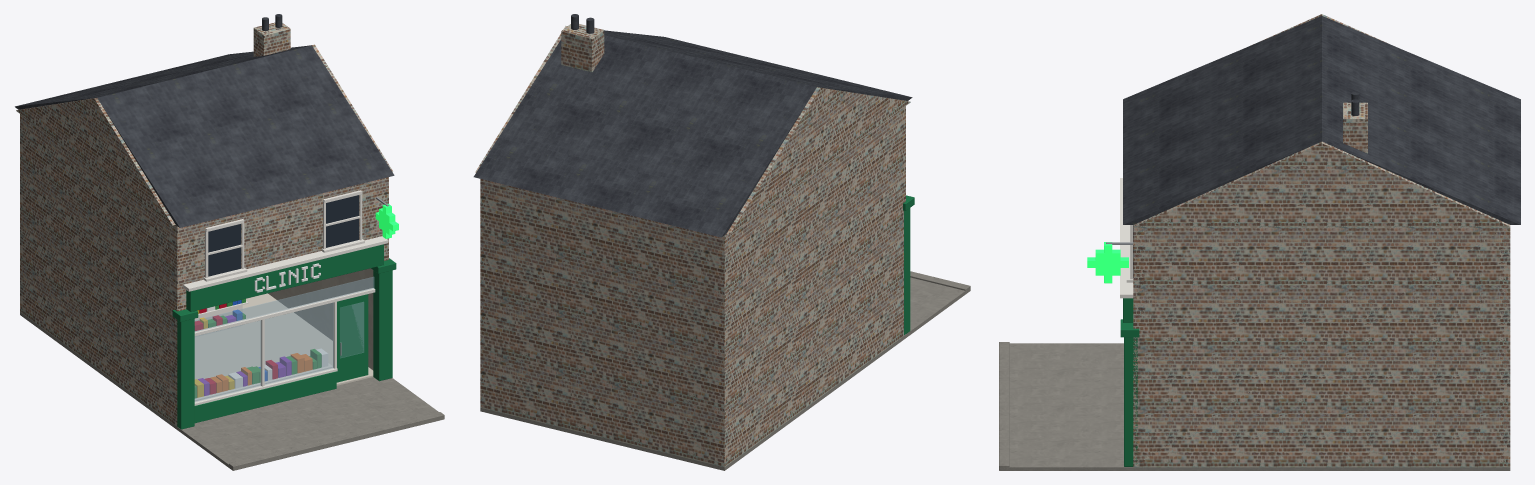
The model's file is region_clinic.glb.
3 views of the same model, side by side, from view 1: azimuth 30°, elevation 25°; view 2: azimuth 150°, elevation 25°; view 3: azimuth 270°, elevation 25° (orthographic). The views are drawn at different scales.
Visible parts, largest first — view 1: shop; view 2: shop; view 3: shop.
Part boxes in pixels (<box>): shop: <box>15,14,444,470</box>; shop: <box>473,14,970,470</box>; shop: <box>999,14,1520,470</box>.
Bounding box in the file's own units: 7.3 × 9.47 × 12.45.
19 materials, 5 textured.
